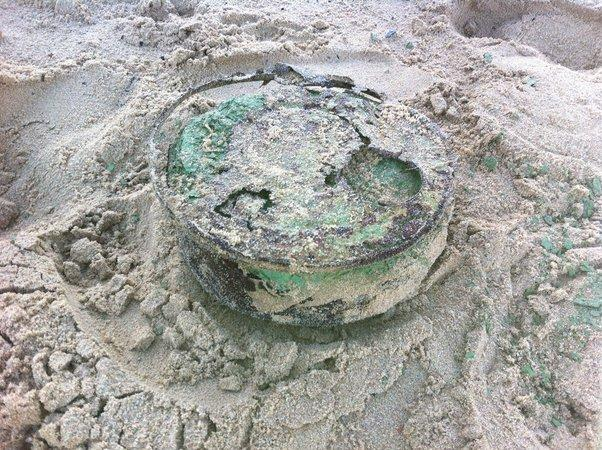pmn: (146, 62, 459, 333)
